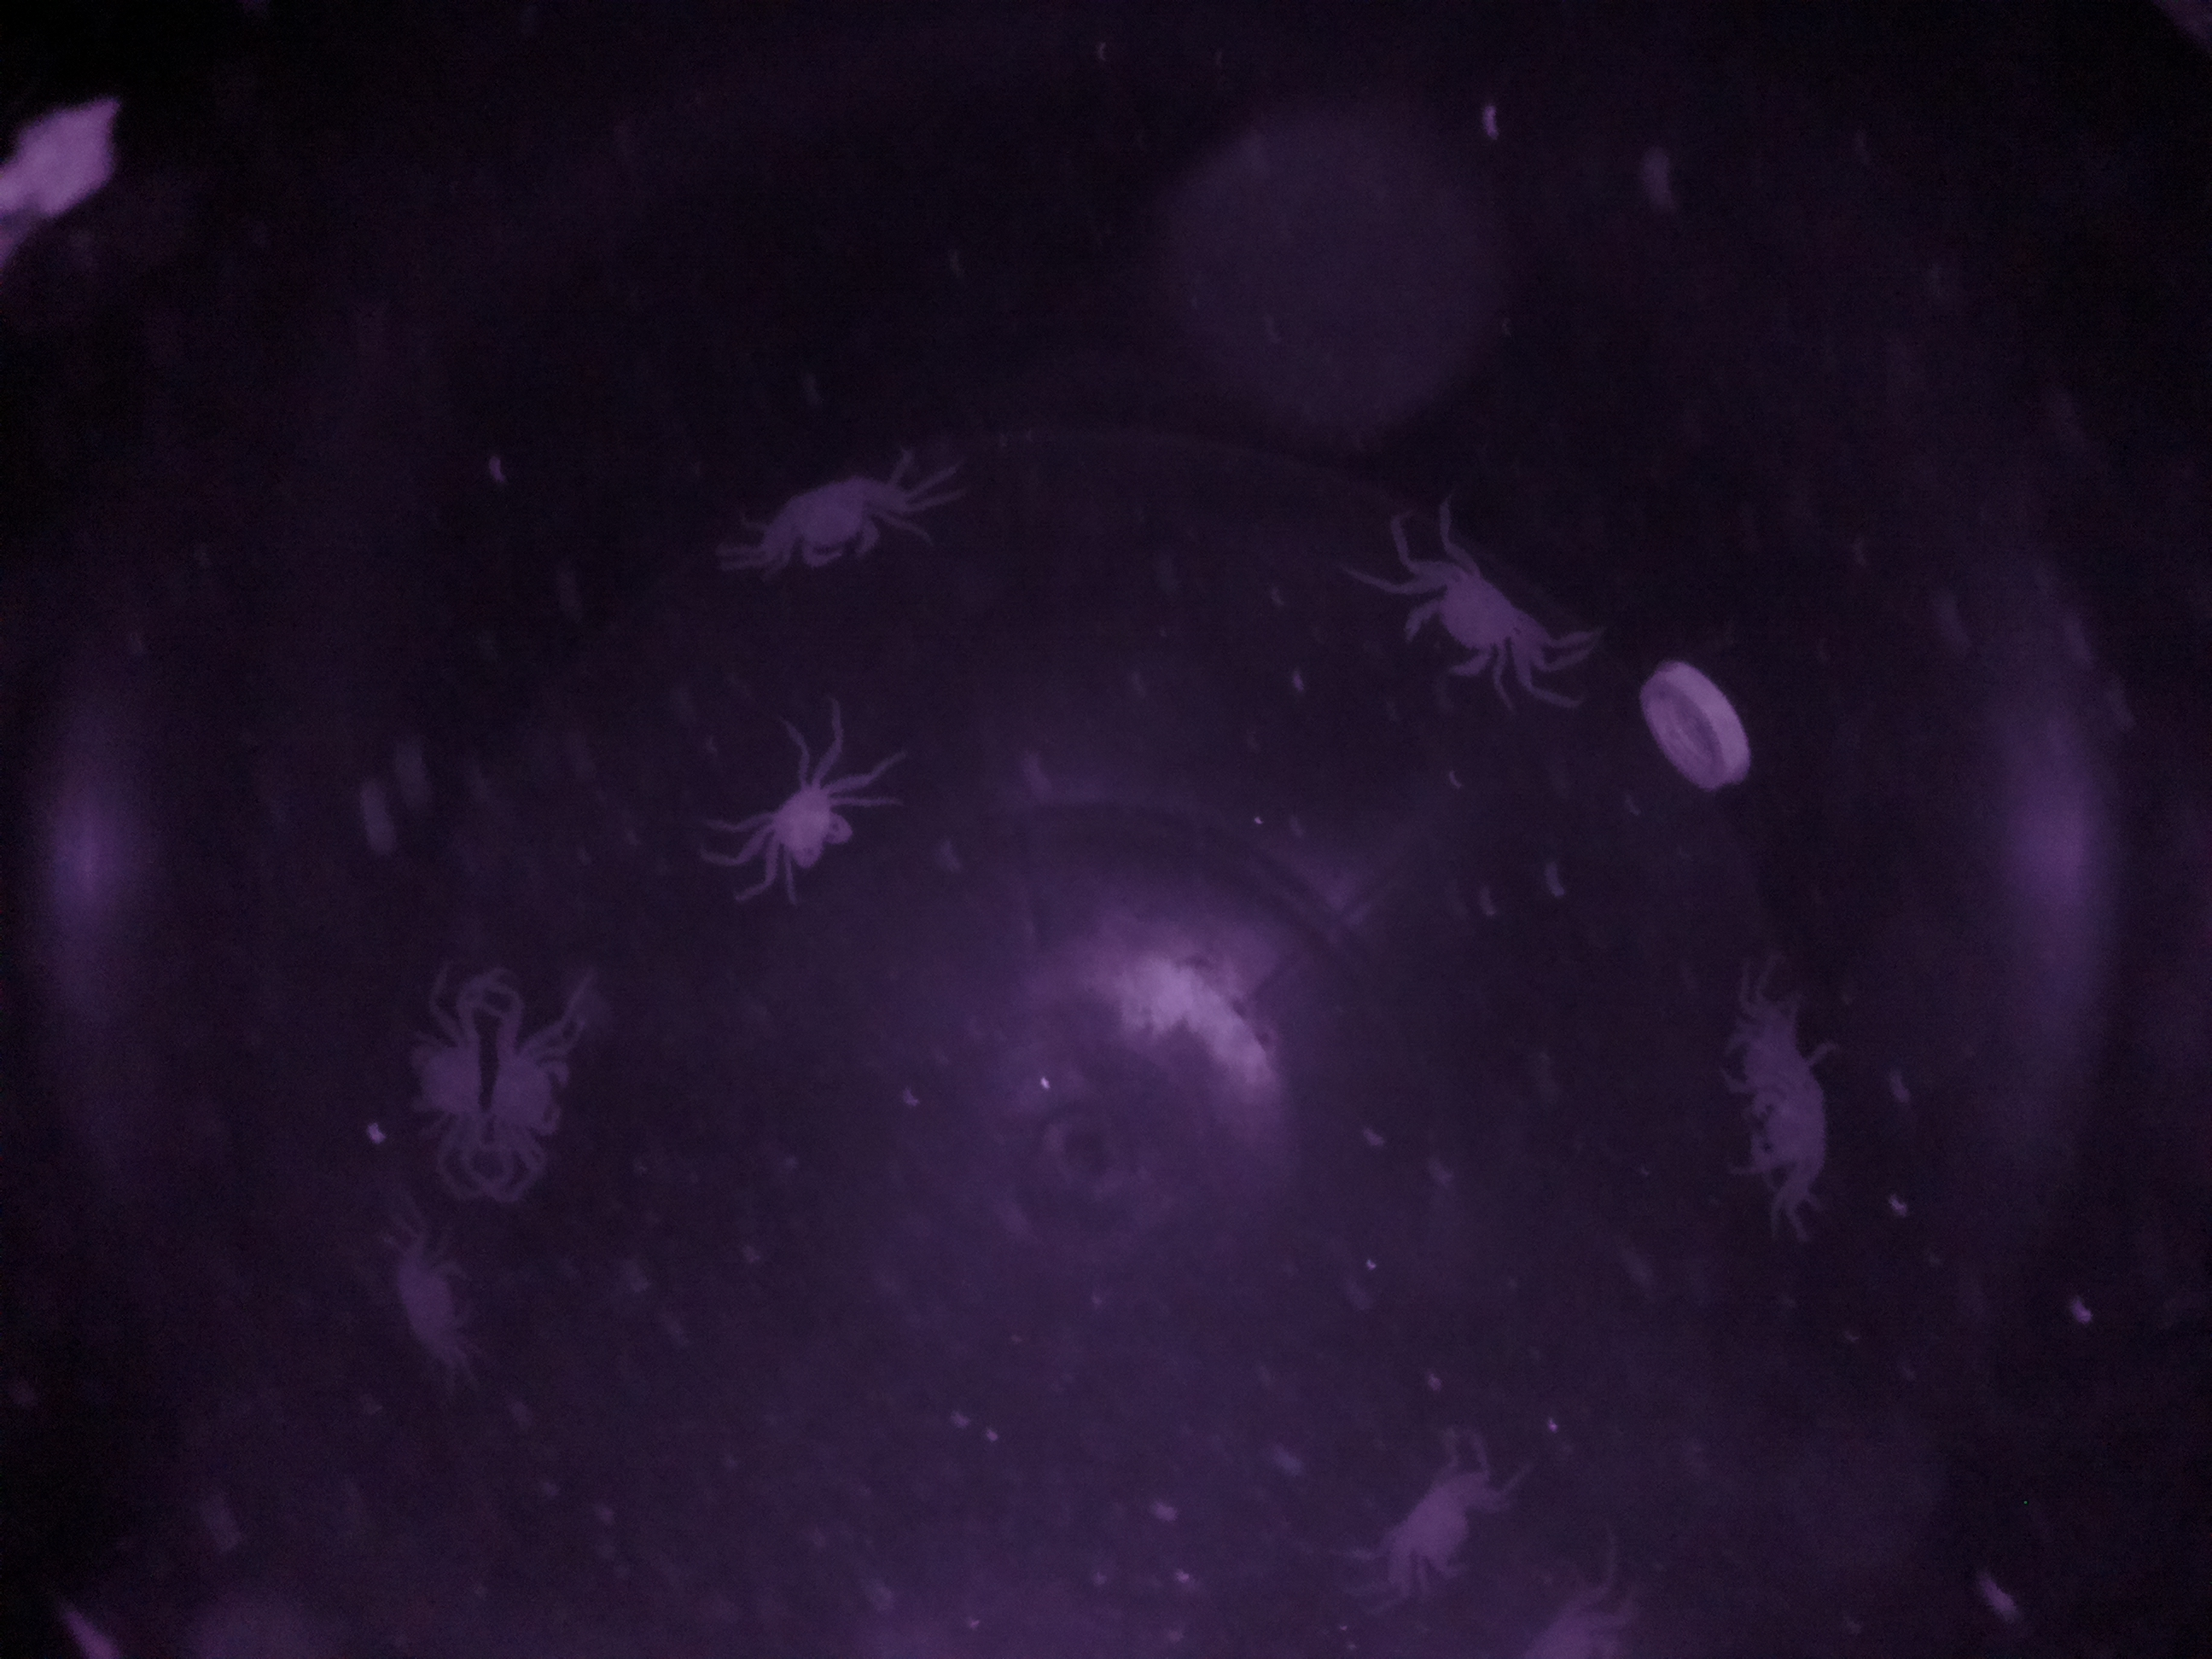Crab: (1359, 521, 1566, 711), (735, 443, 944, 603), (730, 744, 885, 918)
